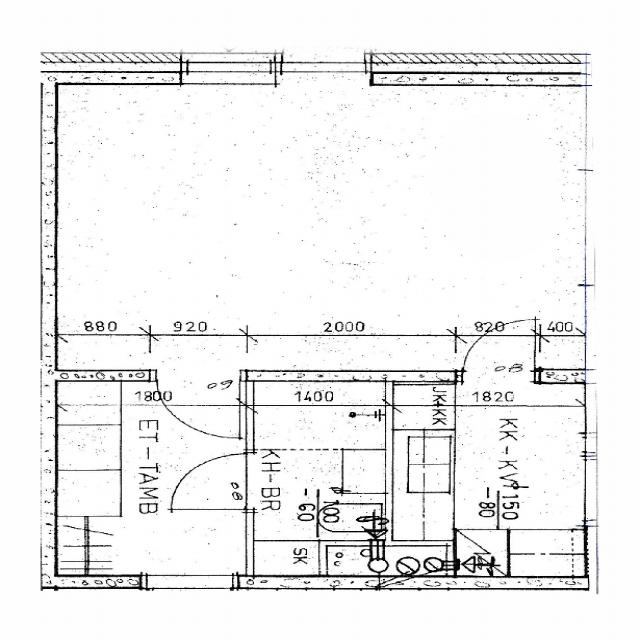door: (156, 370, 239, 441), (167, 453, 254, 509), (462, 318, 534, 381)
